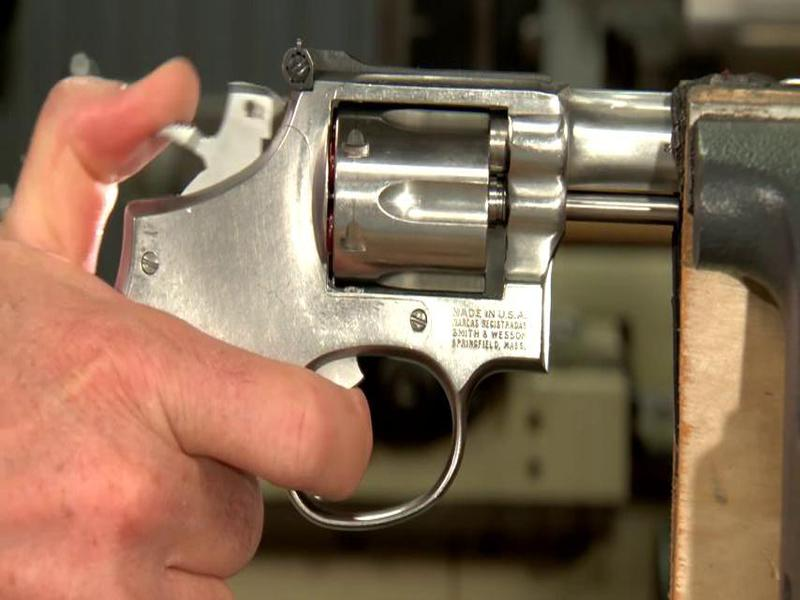Revolver: (94, 25, 681, 551)
